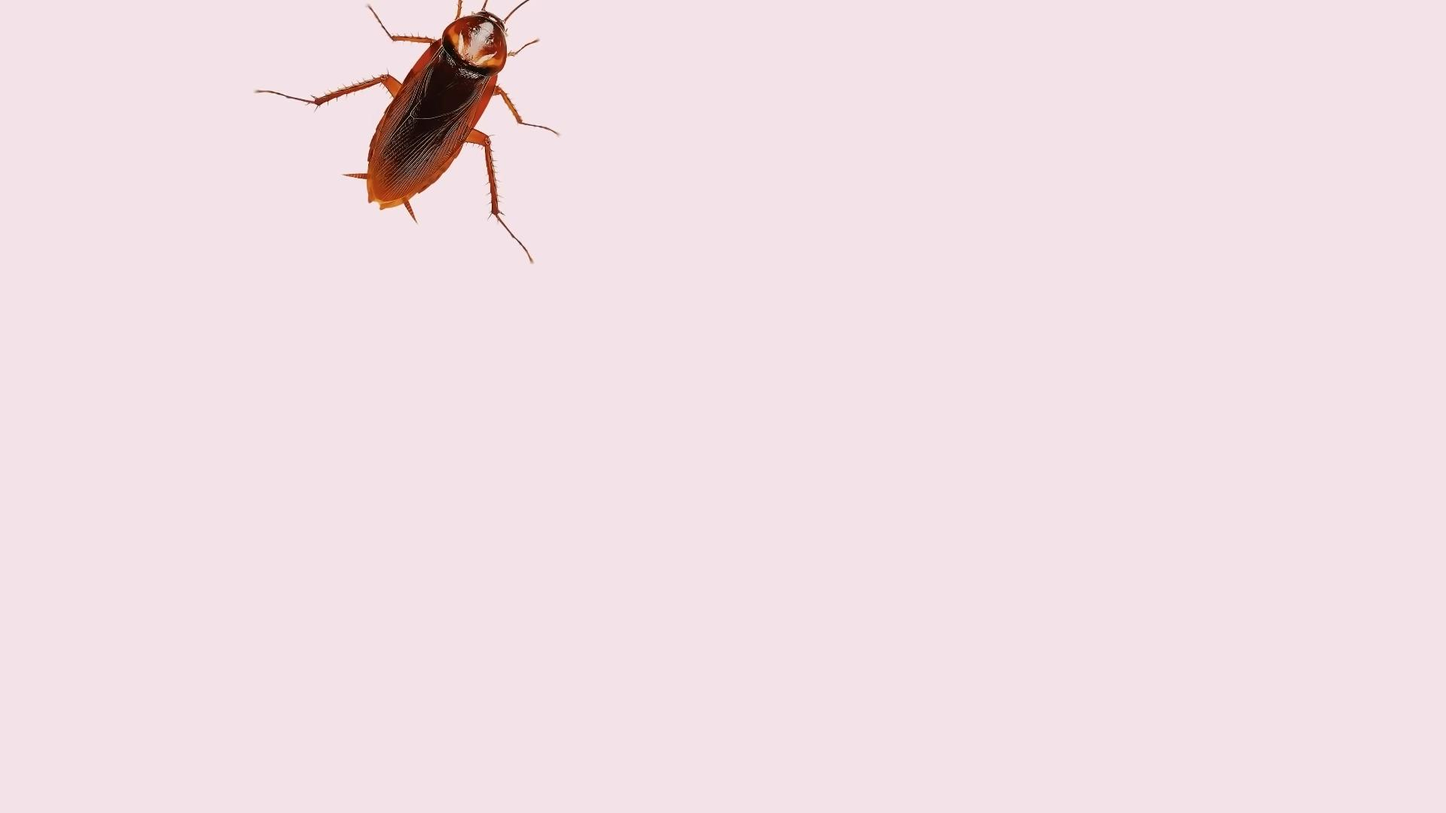cockroach: (277, 0, 567, 226)
